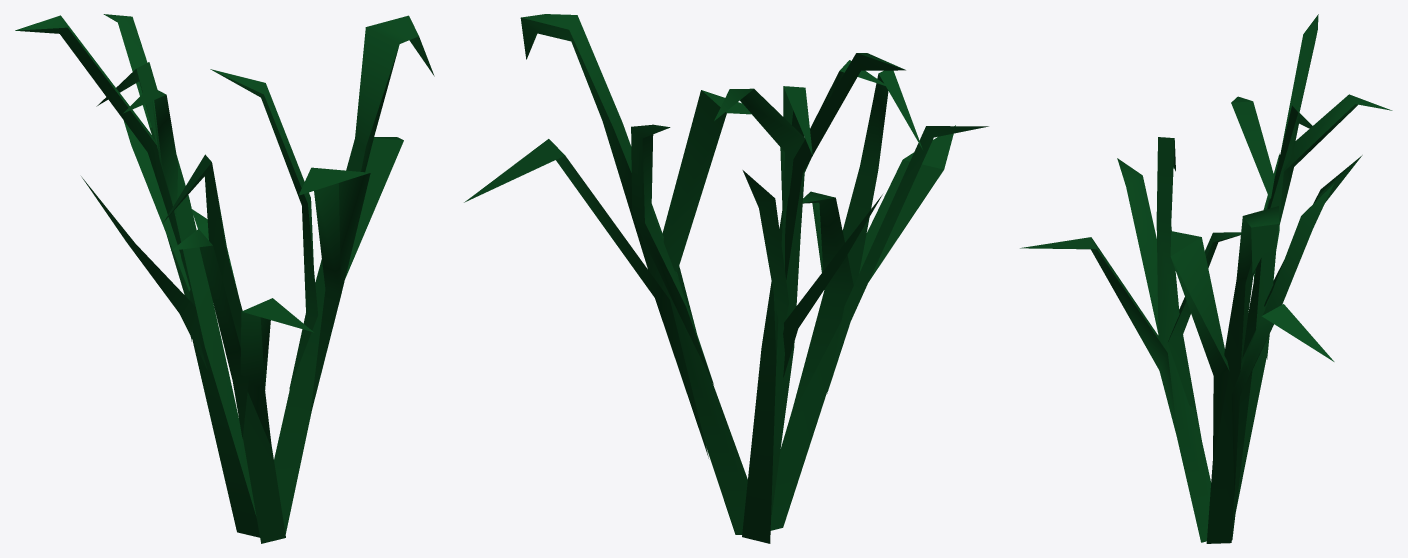
Rendered from Grass_4.fbx.
The picture shows the model from 3 angles, left to right: view 1: azimuth 30°, elevation 25°; view 2: azimuth 150°, elevation 25°; view 3: azimuth 270°, elevation 25°; orthographic projection. The views are drawn at different scales.
Parts seen in each view (by area): view 1: Grass_4; view 2: Grass_4; view 3: Grass_4.
Part boxes in pixels (<box>): Grass_4: <box>15,14,434,543</box>; Grass_4: <box>464,14,988,543</box>; Grass_4: <box>1020,14,1392,543</box>.
Size of the model in its own units: 27.61 by 34.42 by 26.25.
